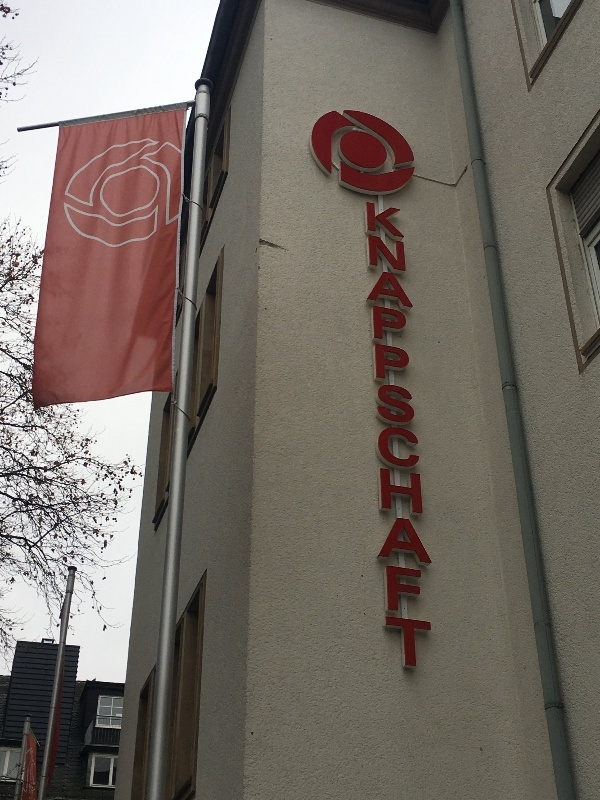text: (369, 203, 384, 672), (385, 203, 400, 672), (401, 203, 416, 672), (417, 203, 432, 672), (433, 203, 446, 672), (367, 203, 368, 672)
